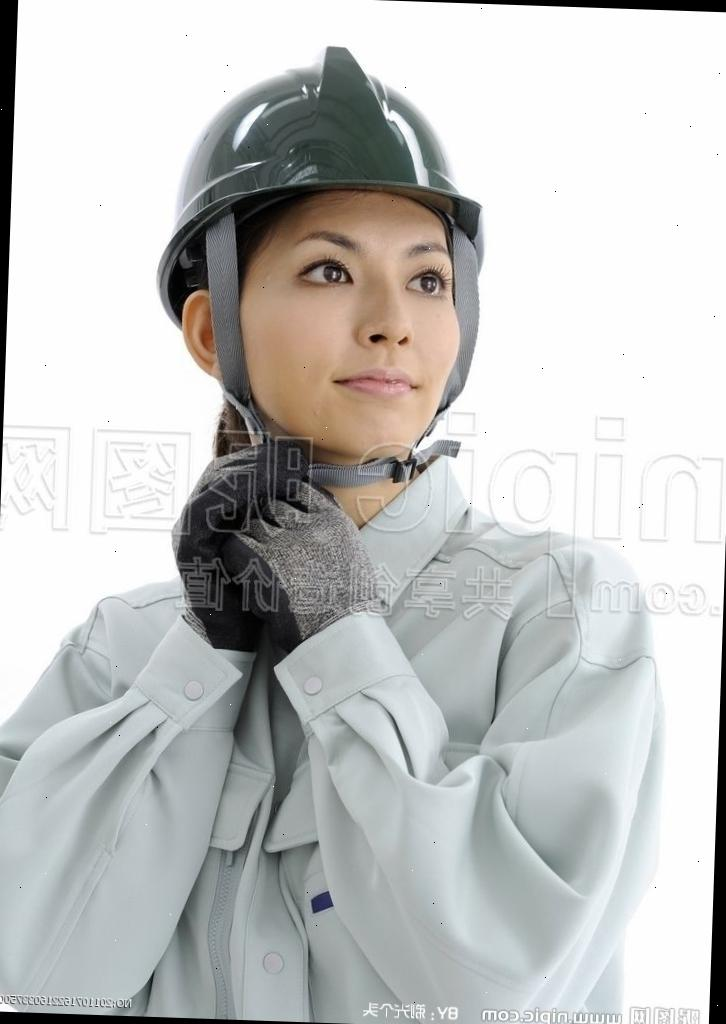helmet: (164, 39, 497, 245)
